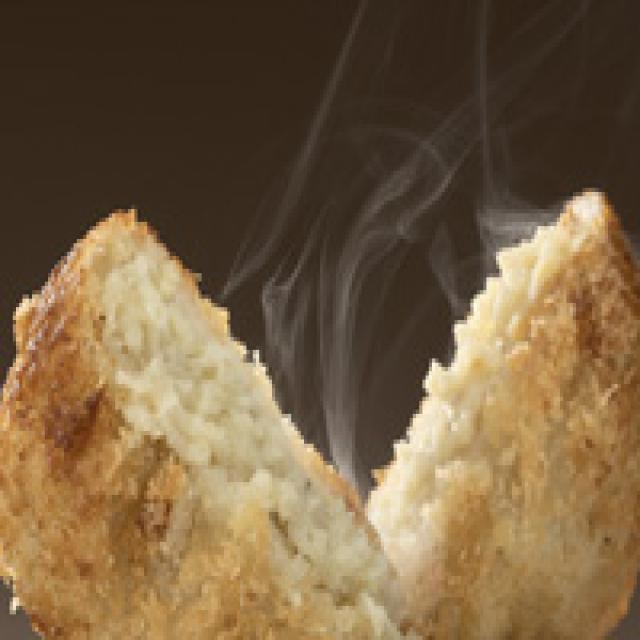炸货点心: (0, 175, 640, 640)
